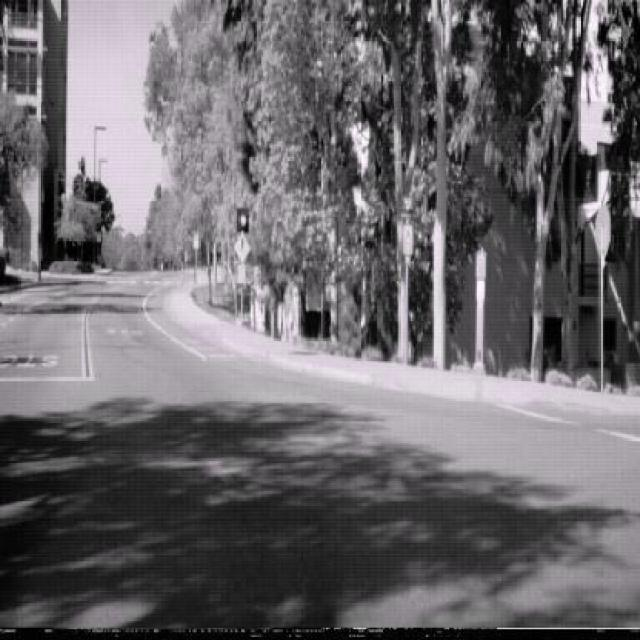pedestrianCrossing: (234, 229, 252, 265)
